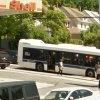buses: (15, 38, 100, 78)
